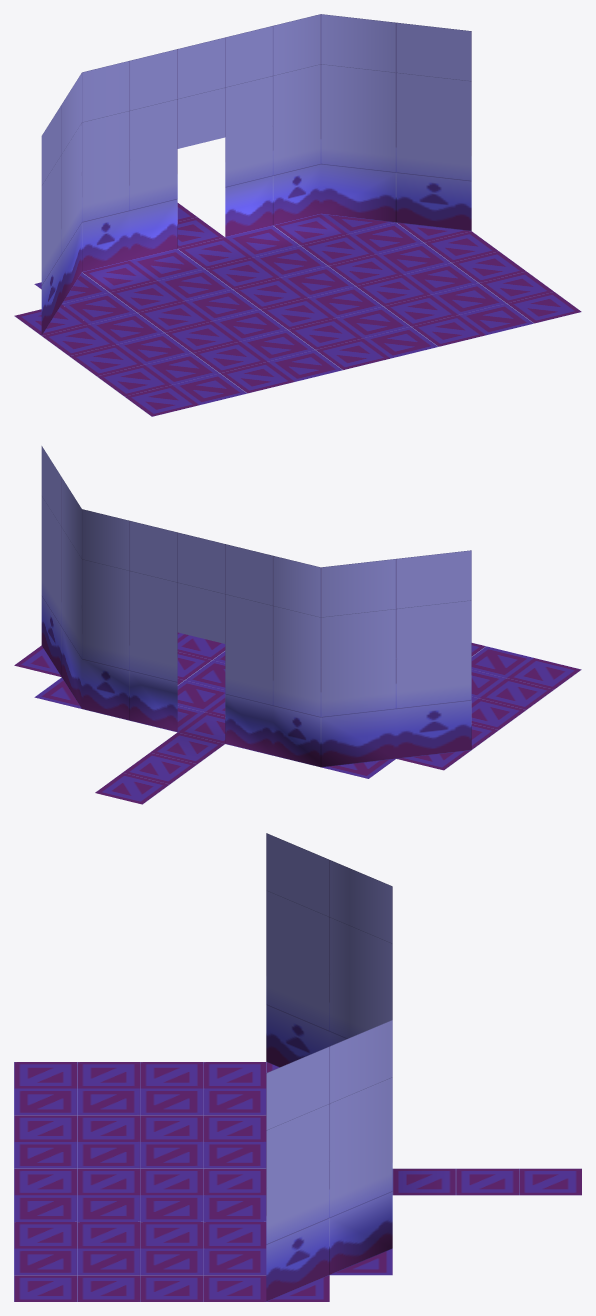
File: workzone.obj
3 renders of one model, top to bottom at view 1: azimuth 30°, elevation 25°; view 2: azimuth 150°, elevation 25°; view 3: azimuth 270°, elevation 25°, orthographic. The views are drawn at different scales.
Parts seen in each view (by area): view 1: Scene.001; view 2: Scene.001; view 3: Scene.001.
Boxes of the visible parts, left/top/right/bottom form: Scene.001: left=14, top=14, right=581, bottom=416; Scene.001: left=14, top=446, right=581, bottom=804; Scene.001: left=14, top=833, right=581, bottom=1301.
Size of the model in its own units: 9 by 4 by 9.
Materials: 1 (1 with a texture image).
